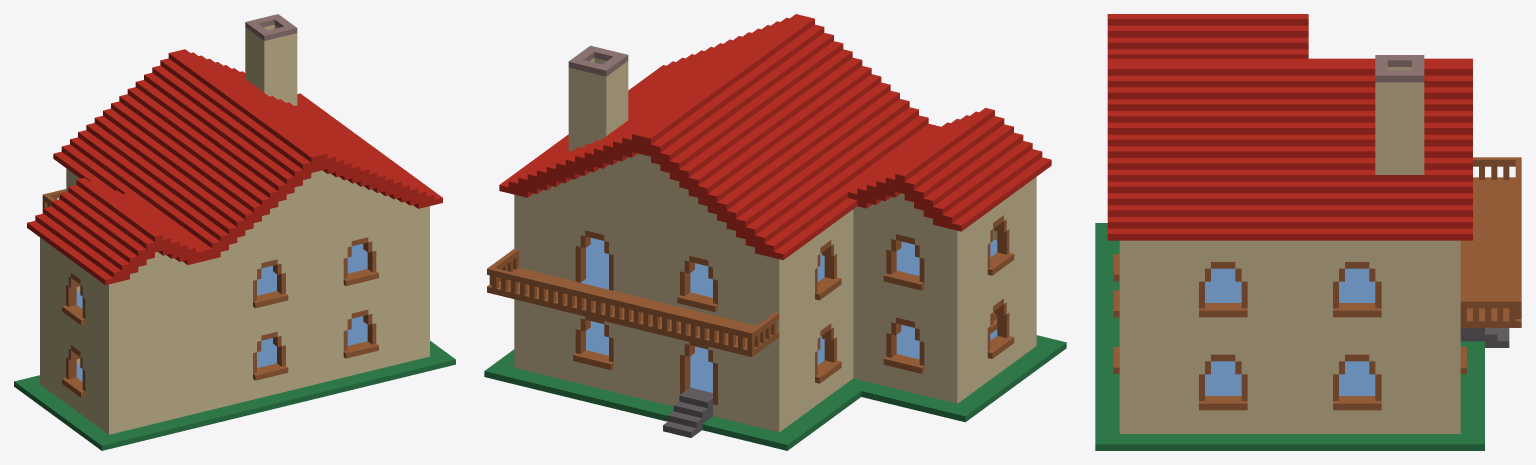
Rendered from pho-nha-ga.glb.
3 views of the same model, side by side, from view 1: azimuth 30°, elevation 25°; view 2: azimuth 150°, elevation 25°; view 3: azimuth 270°, elevation 25° (orthographic). The views are drawn at different scales.
Parts seen in each view (by area): view 1: pho-nha-ga; view 2: pho-nha-ga; view 3: pho-nha-ga.
Boxes of the visible parts, box(x1,y1,x2,y2) form: pho-nha-ga: box(14, 14, 455, 450); pho-nha-ga: box(484, 14, 1066, 450); pho-nha-ga: box(1095, 14, 1521, 450).
Bounding box in the file's own units: 86 × 62.4 × 70.
